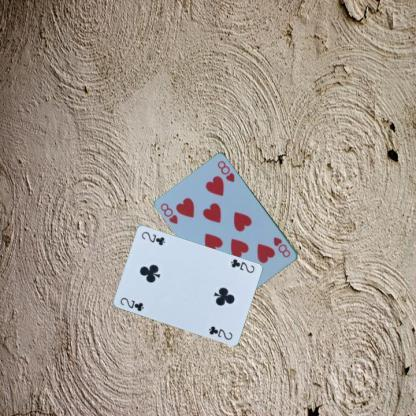2c: (117, 294, 145, 312), (228, 256, 255, 274)
8h: (158, 200, 180, 225), (271, 234, 292, 259)
